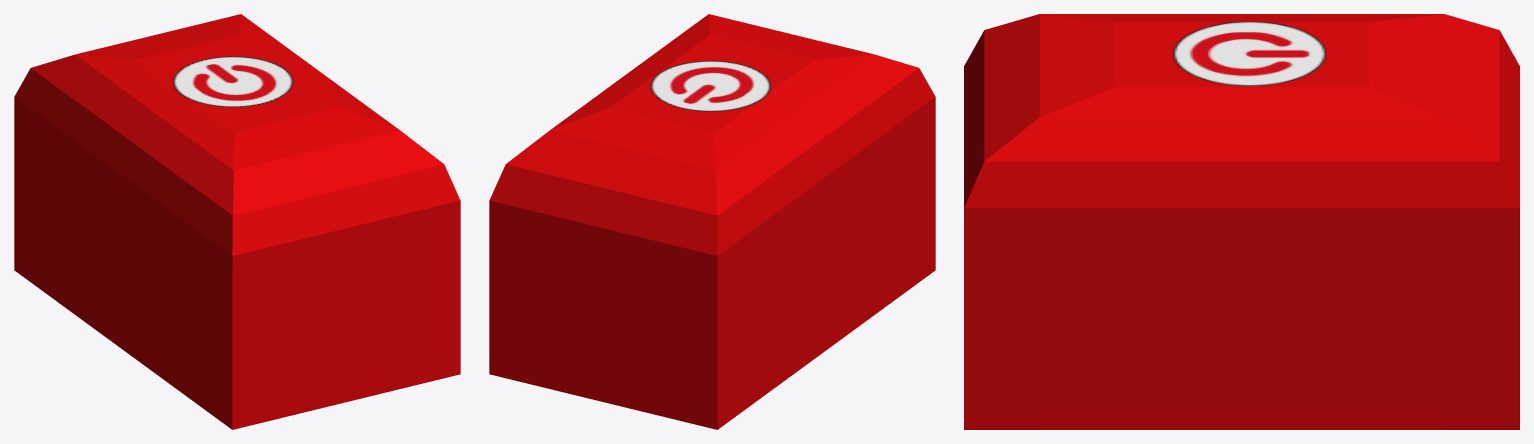
File: button.fbx
3 renders of one model, left to right at view 1: azimuth 30°, elevation 25°; view 2: azimuth 150°, elevation 25°; view 3: azimuth 270°, elevation 25°, orthographic. The views are drawn at different scales.
Parts seen in each view (by area): view 1: Cube; view 2: Cube; view 3: Cube.
Boxes of the visible parts, x1=… form: Cube: x1=14, y1=14, x2=460, y2=429; Cube: x1=489, y1=14, x2=935, y2=429; Cube: x1=964, y1=14, x2=1519, y2=429.
Size of the model in its own units: 62.32 by 62.32 by 103.
